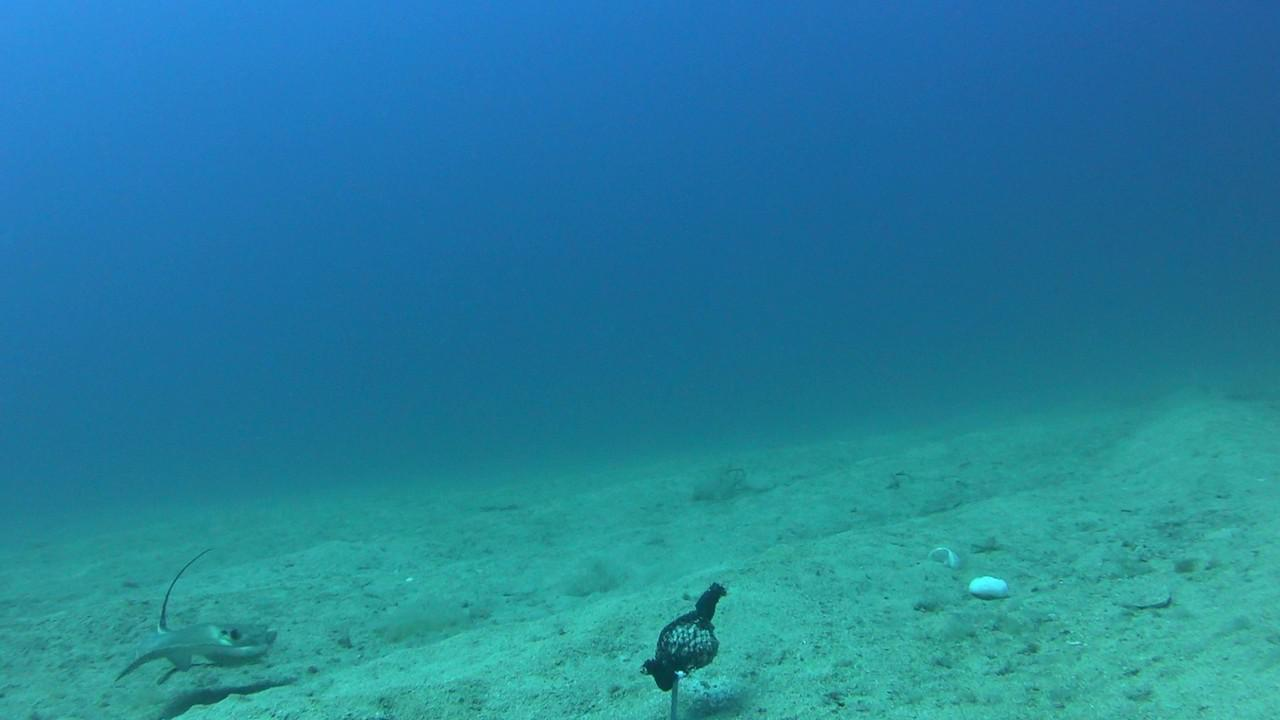myliobatis: (96, 545, 280, 679)
